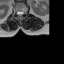CCS_normal: (19, 9, 21, 17)
LFS_stenosis: (23, 9, 25, 15)
LLS_normal: (21, 9, 23, 16)
RFS_normal: (15, 10, 17, 15)
RLS_normal: (17, 9, 19, 16)
